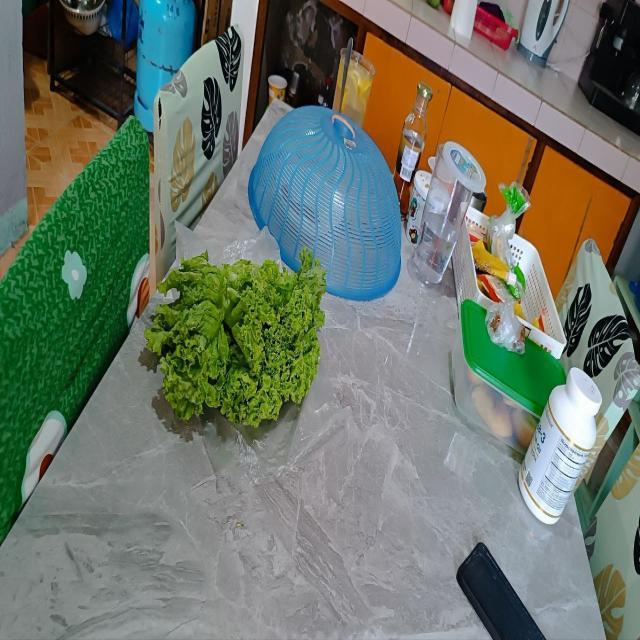Lettuce-Ready-to-Harvest: (150, 248, 324, 427)
